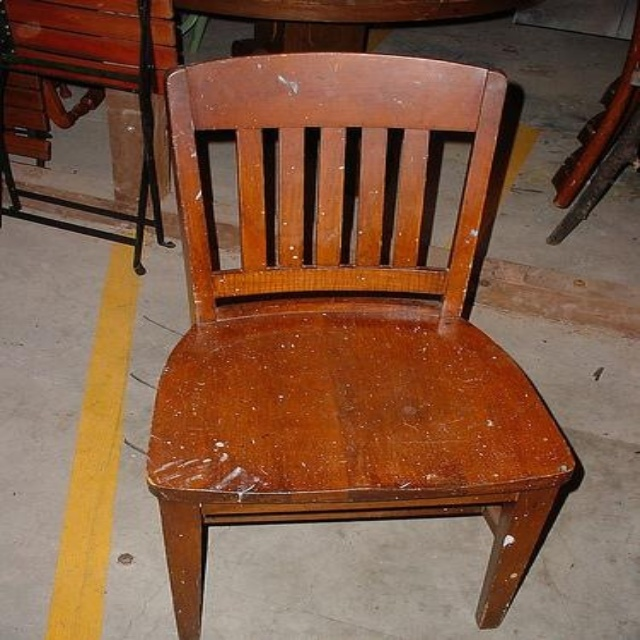obstacle: (148, 54, 580, 639)
